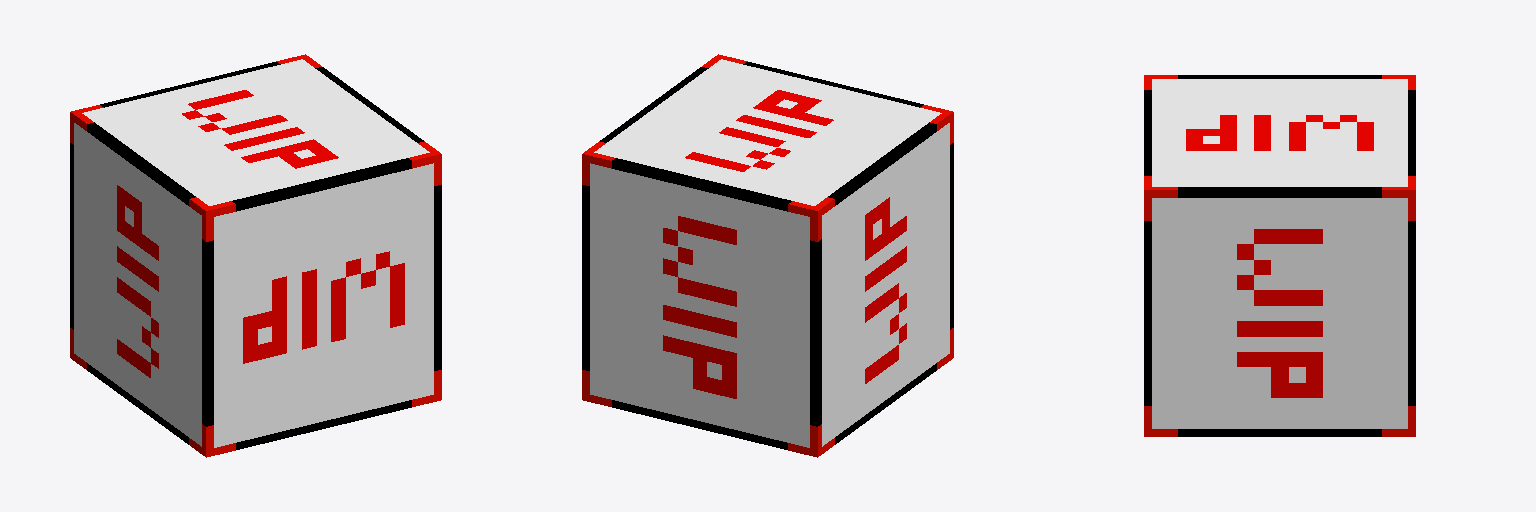
3 renders of one model, left to right at view 1: azimuth 30°, elevation 25°; view 2: azimuth 150°, elevation 25°; view 3: azimuth 270°, elevation 25°, orthographic.
Visible parts, largest first — view 1: Cube; view 2: Cube; view 3: Cube.
Part boxes in pixels (left/top/right/bottom): Cube: left=70, top=54, right=441, bottom=457; Cube: left=582, top=54, right=953, bottom=457; Cube: left=1144, top=75, right=1415, bottom=436.
Size of the model in its own units: 1 by 1 by 1.
1 materials, 1 textured.